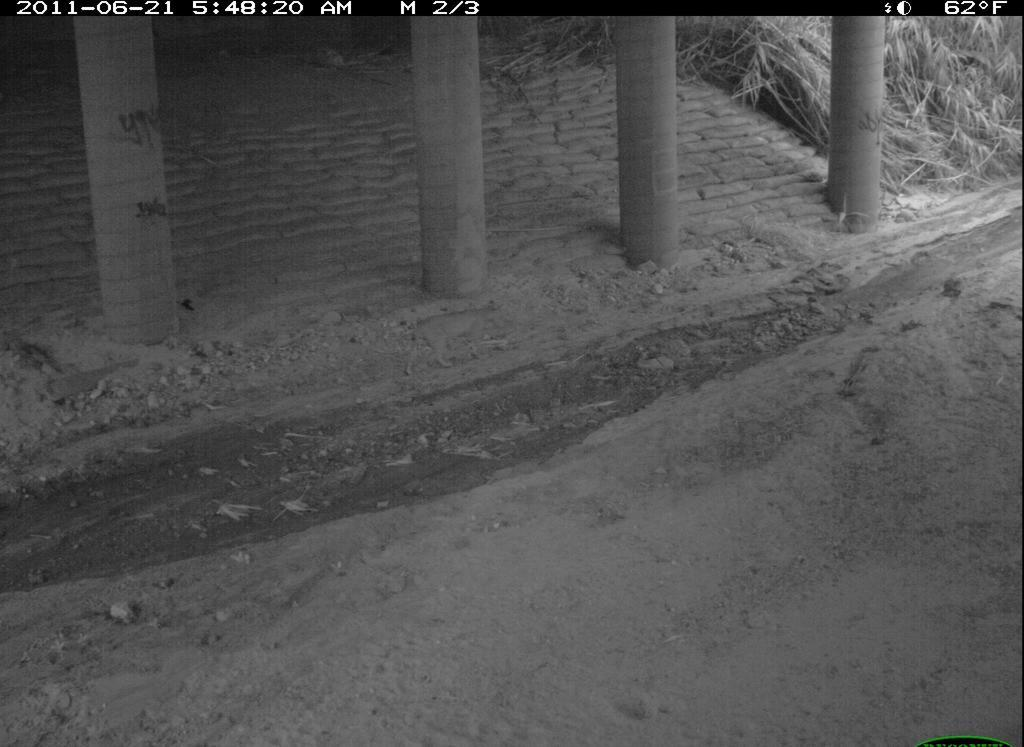bobcat: (800, 594, 1014, 747)
